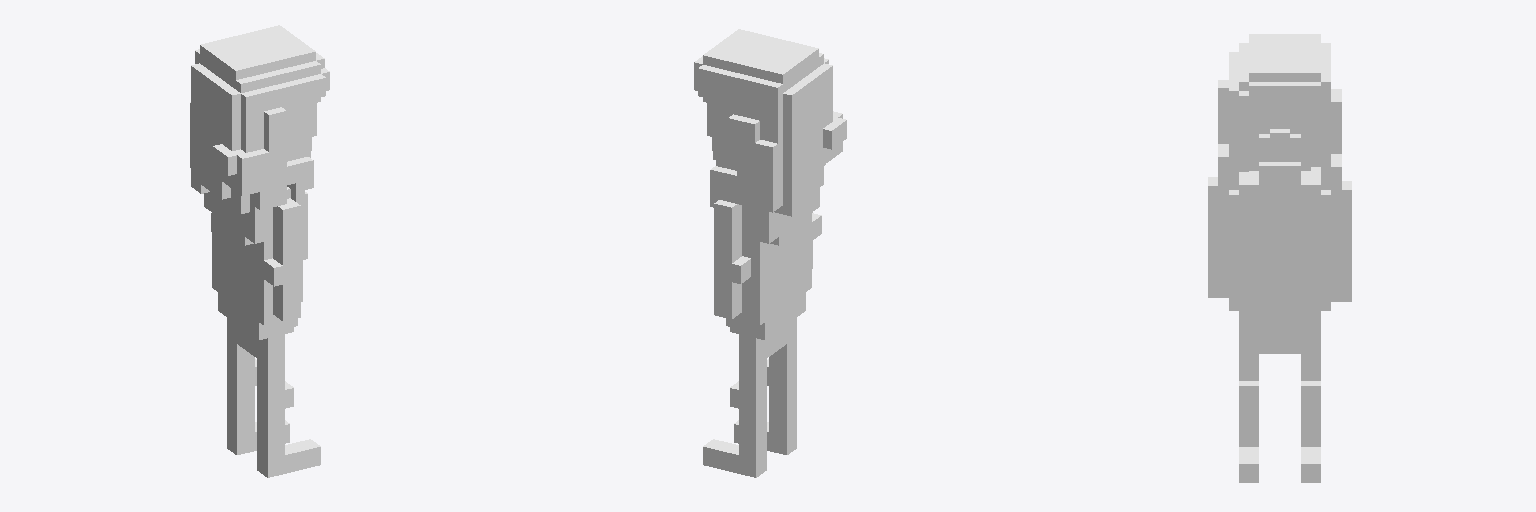
Rendered from SBlack_HBrown.obj.
The picture shows the model from 3 angles: view 1: azimuth 30°, elevation 25°; view 2: azimuth 150°, elevation 25°; view 3: azimuth 270°, elevation 25°; orthographic projection.
Parts seen in each view (by area): view 1: object 1; view 2: object 1; view 3: object 1.
Boxes of the visible parts, <box> form: object 1: <box>190,25,329,477</box>; object 1: <box>694,29,846,477</box>; object 1: <box>1208,34,1351,482</box>.
Bounding box in the file's own units: 1.2 × 4.4 × 1.4.